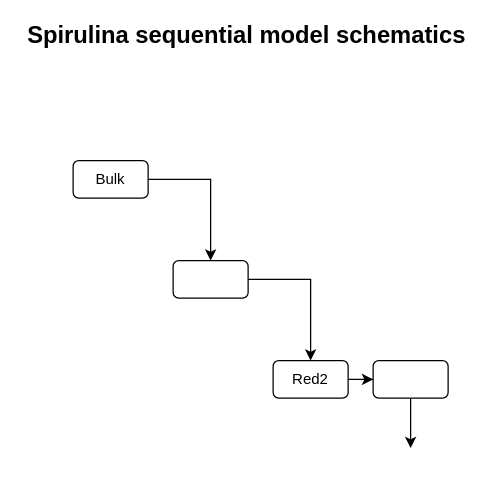
Image size: 493x480. Some labels were removed from this diagram. The centre of each missing label's shape, as x and y in pixels:
"Free" belongs at (x=410, y=378).
"Red1" belongs at (x=210, y=278).
